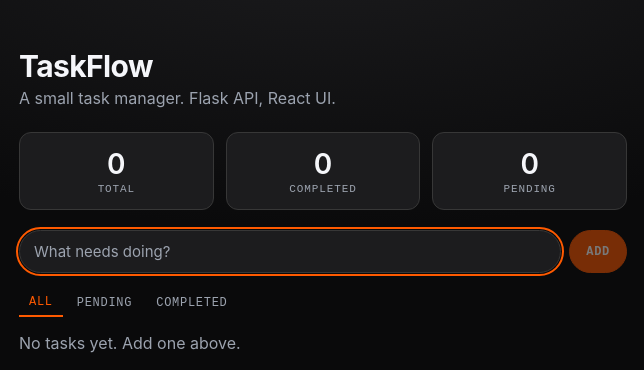
Test: App › requests the matching status when a filter tab is clicked
The image size is (644, 370).
Expected: the text "No tasks yet. Add one above." is shown, [19,333,241,353]
Click the tab "Completed": {"x": 192, "y": 303} [146,289,238,317]
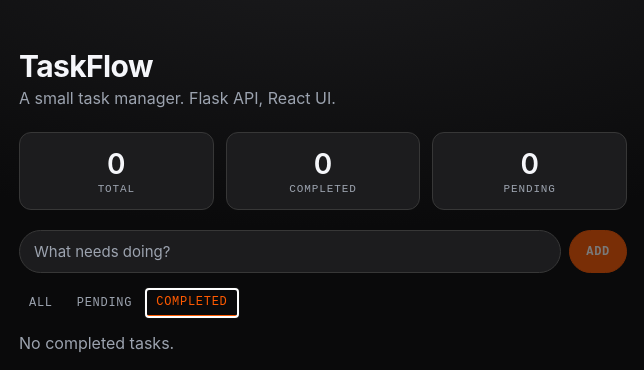
Expected: the text "No completed tasks." is shown, [19,333,174,353]
